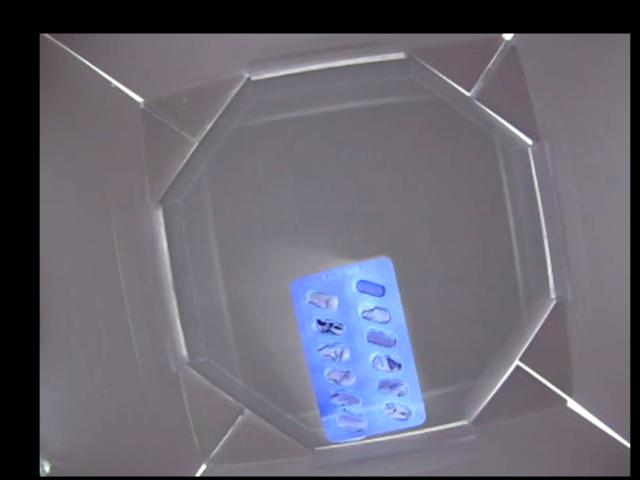Medicine: (291, 253, 427, 445)
